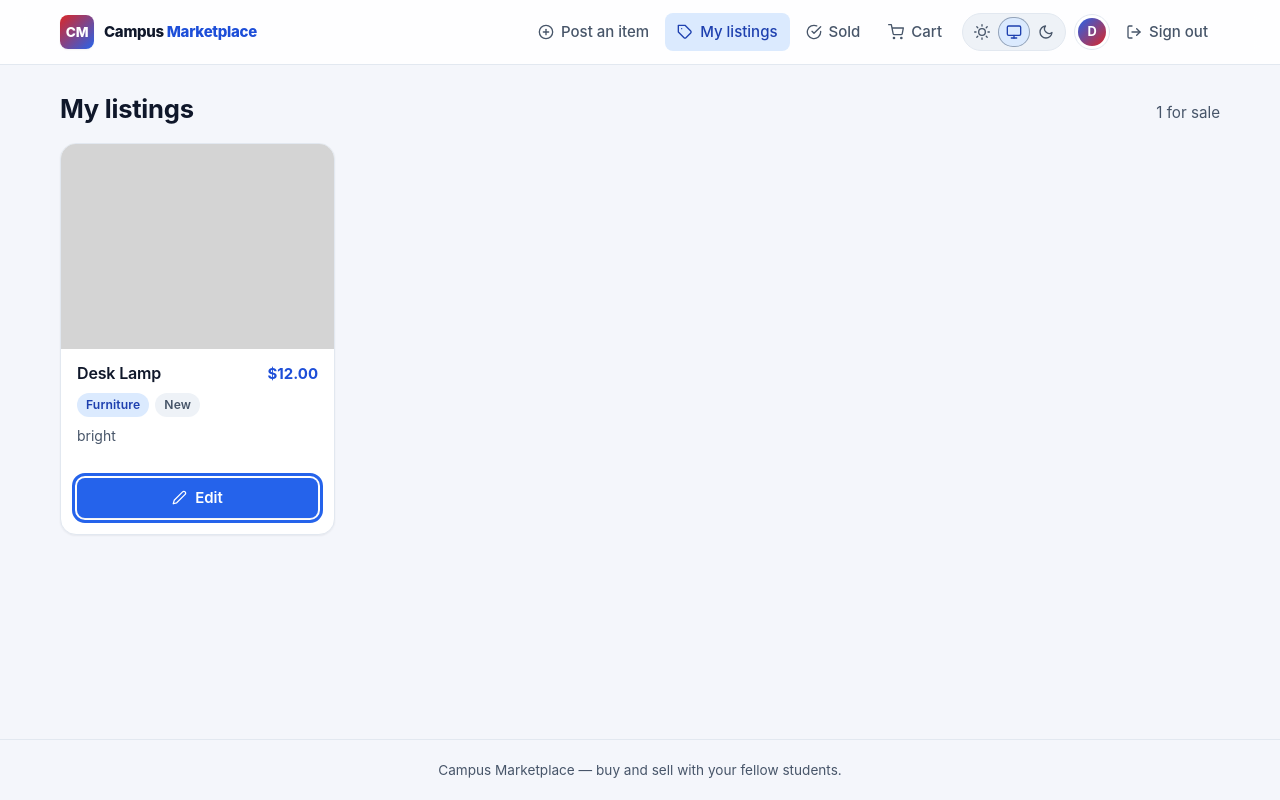
the edit dialog takes focus, closes on Escape and returns focus to the Edit button
Click the button "Edit" at (198, 498), box 77,478 -> 318,518
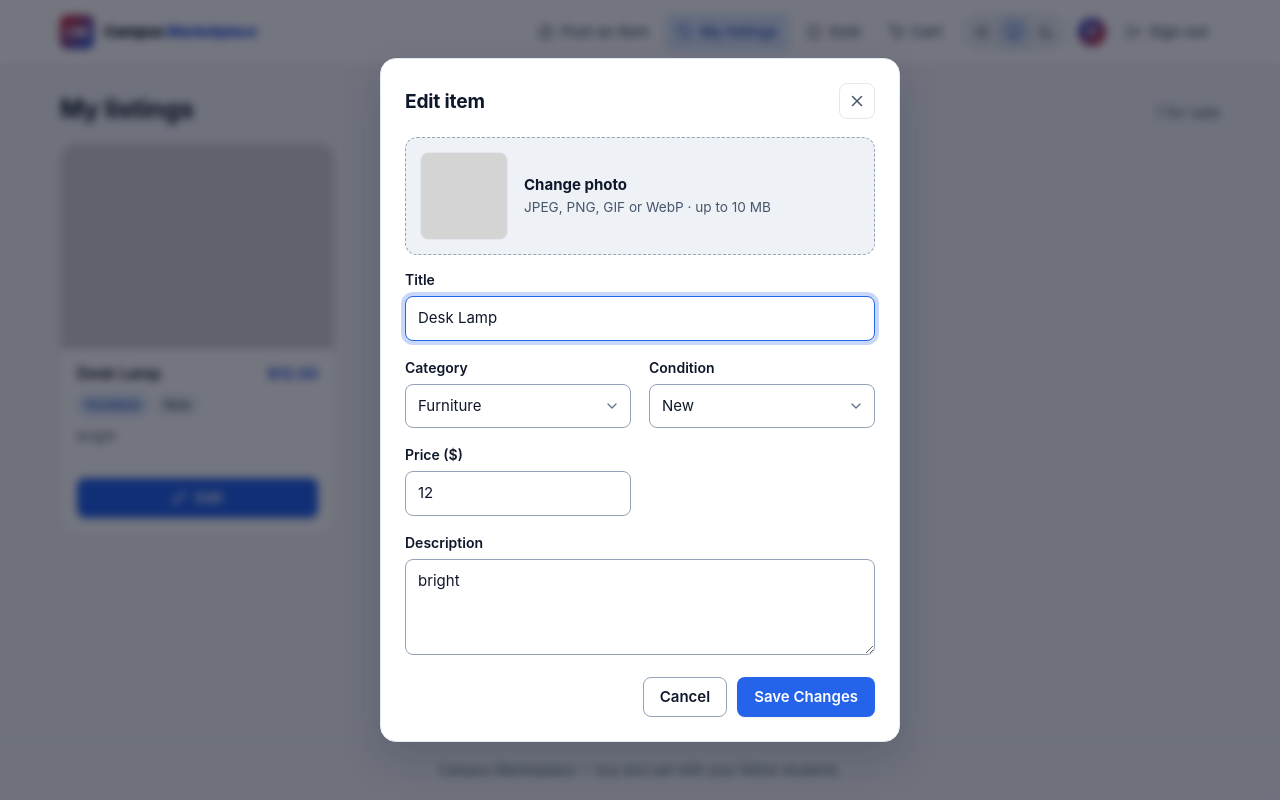
Now the dialog "Edit item" is shown, box 380,58 -> 900,742
Press Escape
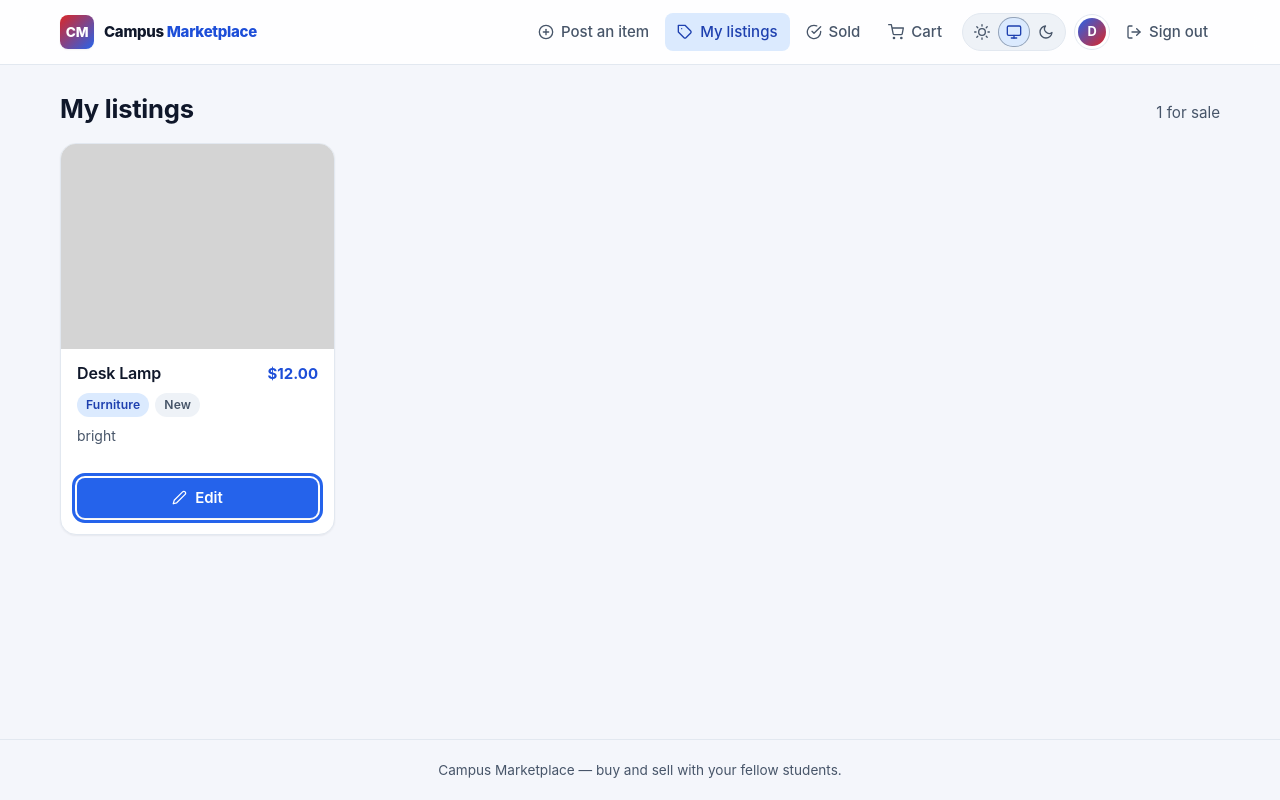
Now the dialog is gone
